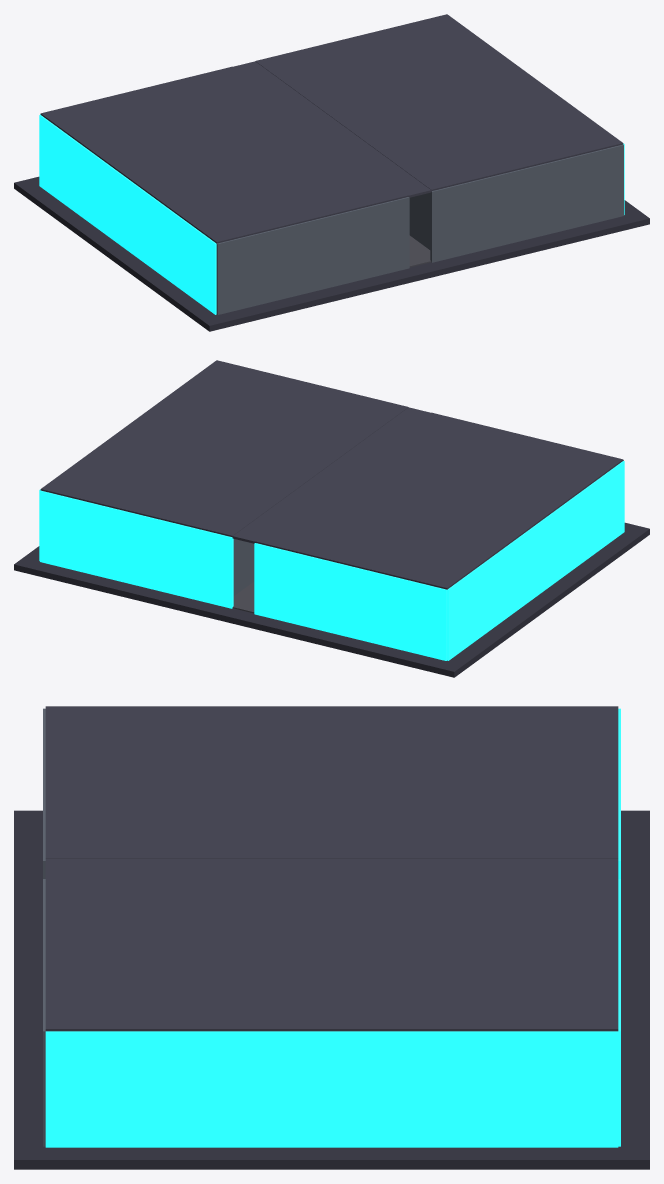
The model's file is BL-Footballturf.fbx.
3 renders of one model, top to bottom at view 1: azimuth 30°, elevation 25°; view 2: azimuth 150°, elevation 25°; view 3: azimuth 270°, elevation 25°, orthographic. The views are drawn at different scales.
Parts seen in each view (by area): view 1: Arena1_Ceiling, Arena2_Ceiling, Arena1_Wall_Front, Arena2_Wall_Front, Arena1_Wall_Outer, Ground, Path_Ceiling, Path_Wall_R, Path_Floor; view 2: Arena1_Ceiling, Arena2_Ceiling, Arena1_Wall_Back, Arena2_Wall_Back, Arena1_Wall_Outer, Ground, Path_Ceiling, Path_Wall_R, Path_Floor; view 3: Arena2_Ceiling, Arena1_Ceiling, Arena2_Wall_Outer, Ground, Path_Ceiling, Arena2_Wall_Back, Arena2_Wall_Front.
Boxes of the visible parts, bbox=[...] form: Arena1_Ceiling: bbox=[40, 66, 408, 243]; Arena2_Ceiling: bbox=[255, 14, 623, 191]; Arena1_Wall_Front: bbox=[216, 197, 409, 314]; Arena2_Wall_Front: bbox=[430, 144, 623, 262]; Arena1_Wall_Outer: bbox=[39, 115, 216, 314]; Ground: bbox=[14, 176, 649, 331]; Path_Ceiling: bbox=[233, 61, 438, 198]; Path_Wall_R: bbox=[409, 193, 430, 249]; Path_Floor: bbox=[409, 235, 431, 267]; Arena1_Ceiling: bbox=[255, 412, 623, 589]; Arena2_Ceiling: bbox=[40, 360, 408, 537]; Arena1_Wall_Back: bbox=[254, 543, 447, 660]; Arena2_Wall_Back: bbox=[40, 490, 233, 608]; Arena1_Wall_Outer: bbox=[447, 461, 624, 660]; Ground: bbox=[14, 522, 649, 677]; Path_Ceiling: bbox=[221, 407, 430, 544]; Path_Wall_R: bbox=[233, 539, 254, 595]; Path_Floor: bbox=[232, 581, 254, 613]; Arena2_Ceiling: bbox=[45, 876, 618, 1031]; Arena1_Ceiling: bbox=[45, 706, 618, 858]; Arena2_Wall_Outer: bbox=[45, 1031, 618, 1147]; Ground: bbox=[14, 810, 649, 1169]; Path_Ceiling: bbox=[45, 859, 618, 876]; Arena2_Wall_Back: bbox=[618, 879, 620, 1146]; Arena2_Wall_Front: bbox=[43, 879, 45, 1146].
Size of the model in its own units: 7800 by 1325 by 6000.
